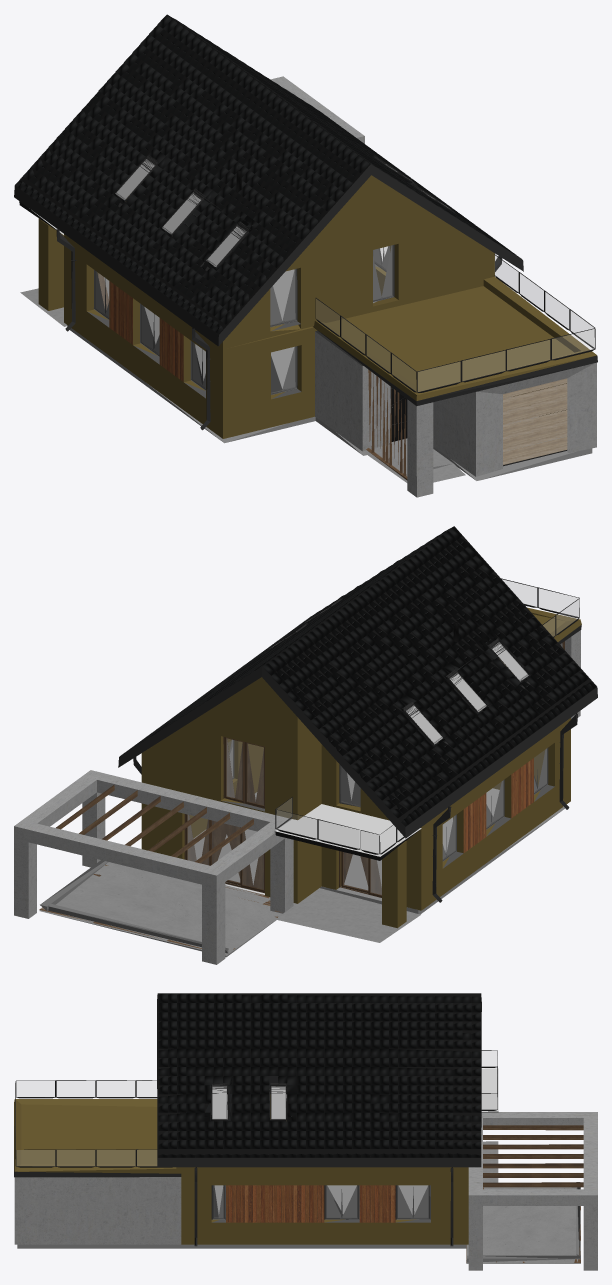
Rendered from house4.glb.
3 renders of one model, top to bottom at view 1: azimuth 30°, elevation 25°; view 2: azimuth 150°, elevation 25°; view 3: azimuth 270°, elevation 25°, orthographic. The views are drawn at different scales.
Visible parts, largest first — view 1: Family house; view 2: Family house; view 3: Family house.
Boxes of the visible parts, x1,y1,x2,y2 form: Family house: [14, 14, 597, 497]; Family house: [14, 526, 597, 964]; Family house: [14, 993, 597, 1270].
Size of the model in its own units: 11.55 by 8.22 by 21.35.
Materials: 33 (8 with a texture image).
